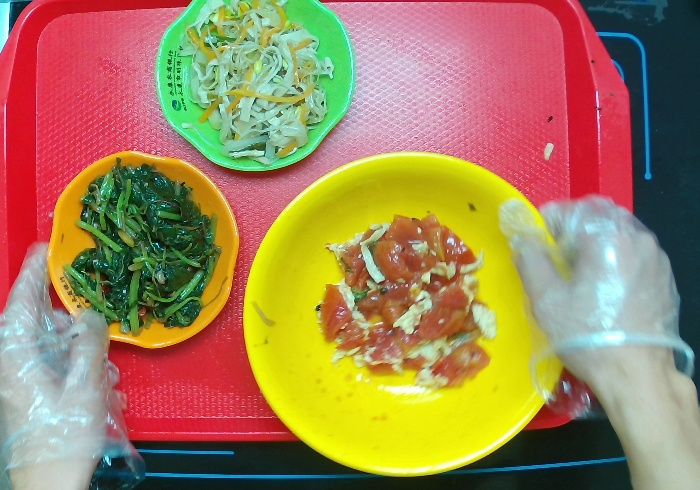YKMZ-Huang_Se_Tang_Wan: (241, 150, 576, 478)
YKMZ-Ju_Se_Ao_Bian_Wan: (46, 150, 237, 351)
YKMZ-Lv_Se_Ao_Bian_Wan: (154, 1, 353, 176)
